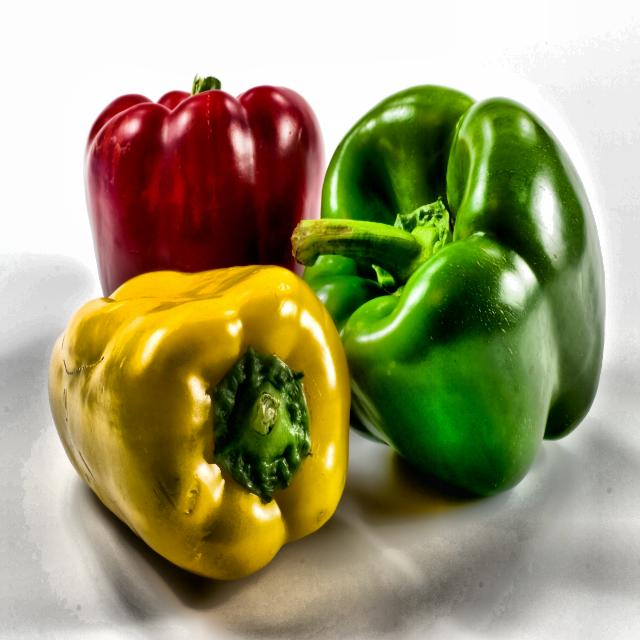capsicum: (31, 40, 613, 616)
